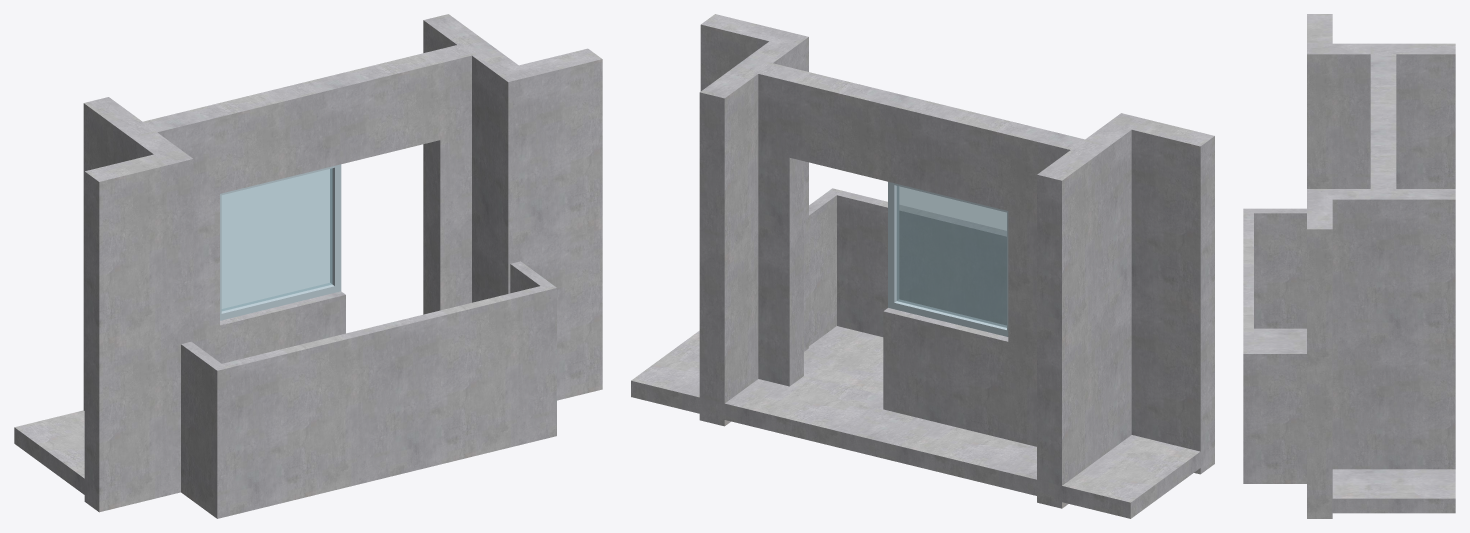
File: semi-recessed.glb
3 views of the same model, side by side, from view 1: azimuth 30°, elevation 25°; view 2: azimuth 150°, elevation 25°; view 3: azimuth 270°, elevation 25° (orthographic). The views are drawn at different scales.
Visible parts, largest first — view 1: 主体墙, 栏板, 窗, 楼板; view 2: 主体墙, 楼板, 栏板, 窗; view 3: 主体墙, 栏板, 楼板.
Part boxes in pixels (left/top/right/bottom): 主体墙: left=83, top=14, right=602, bottom=495; 栏板: left=181, top=261, right=556, bottom=502; 窗: left=220, top=164, right=341, bottom=320; 楼板: left=14, top=373, right=602, bottom=518; 主体墙: left=699, top=14, right=1214, bottom=492; 楼板: left=631, top=326, right=1214, bottom=518; 栏板: left=809, top=188, right=1006, bottom=345; 窗: left=888, top=182, right=1008, bottom=336; 主体墙: left=1307, top=14, right=1455, bottom=504; 栏板: left=1243, top=208, right=1306, bottom=469; 楼板: left=1243, top=328, right=1455, bottom=518.
Bounding box in the file's own units: 4.8 × 3.01 × 2.
Materials: 5 (3 with a texture image).
